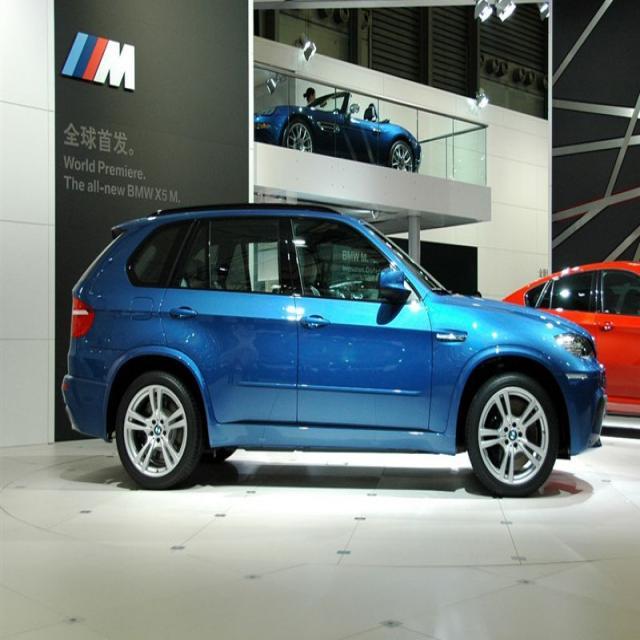back_right_side_light: (69, 292, 96, 339)
door: (160, 210, 294, 428)
front_bumper: (556, 358, 607, 457)
front_right_side_door: (281, 208, 434, 431)
front_right_side_light: (553, 330, 595, 361)
front_right_side_mirror: (378, 266, 408, 302)
rear_bumper: (62, 336, 128, 442)
wheel: (467, 372, 558, 496), (116, 371, 199, 490)
